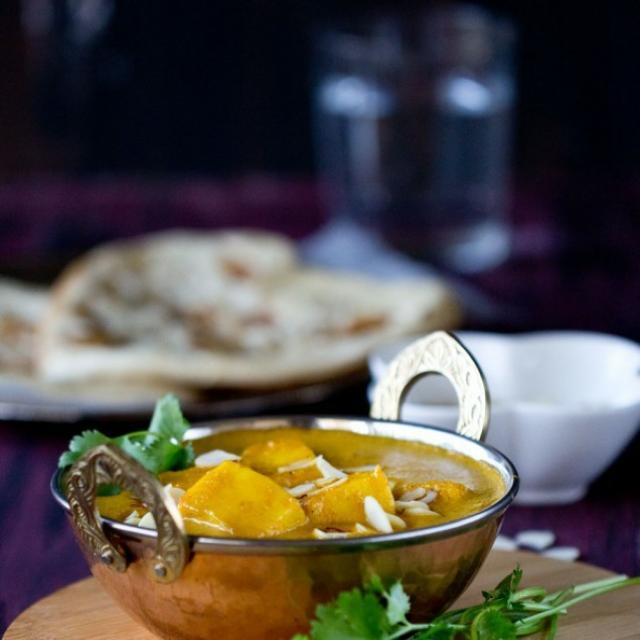ShahiPaneer: (110, 423, 499, 535)
